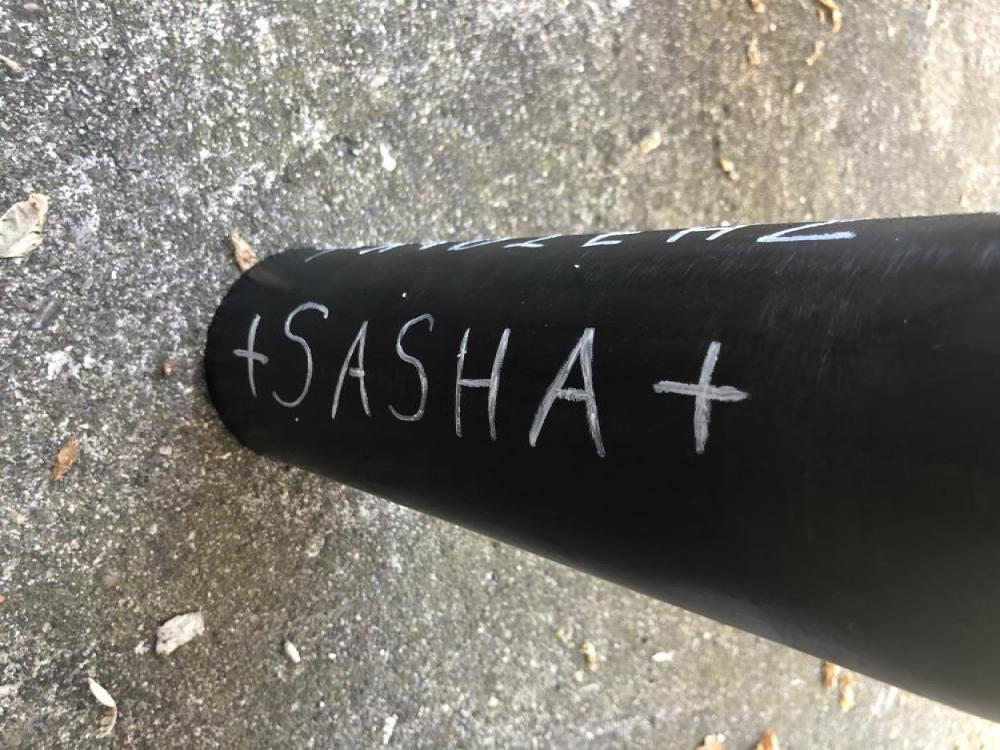+: (655, 341, 751, 455), (232, 314, 271, 397)
A: (530, 328, 605, 458), (331, 320, 375, 421)
H: (453, 328, 513, 442)
S: (270, 302, 329, 406), (387, 314, 436, 420)
